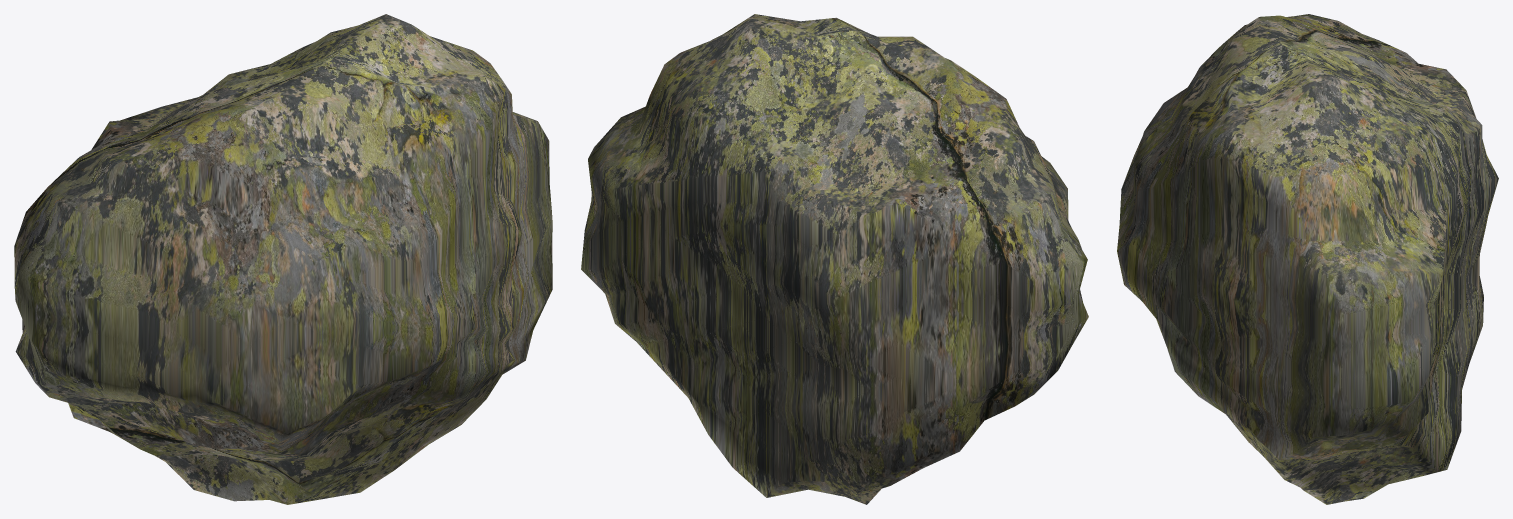
The model's file is boulder_e_lod0.gltf.
3 renders of one model, left to right at view 1: azimuth 30°, elevation 25°; view 2: azimuth 150°, elevation 25°; view 3: azimuth 270°, elevation 25°, orthographic. The views are drawn at different scales.
Visible parts, largest first — view 1: boulder_e_LOD0; view 2: boulder_e_LOD0; view 3: boulder_e_LOD0.
Part boxes in pixels (x1=…): boulder_e_LOD0: x1=14, y1=14, x2=552, y2=504; boulder_e_LOD0: x1=581, y1=14, x2=1088, y2=504; boulder_e_LOD0: x1=1117, y1=14, x2=1498, y2=504.
Bounding box in the file's own units: 1.97 × 1.68 × 1.3.
1 material, 1 textured.
